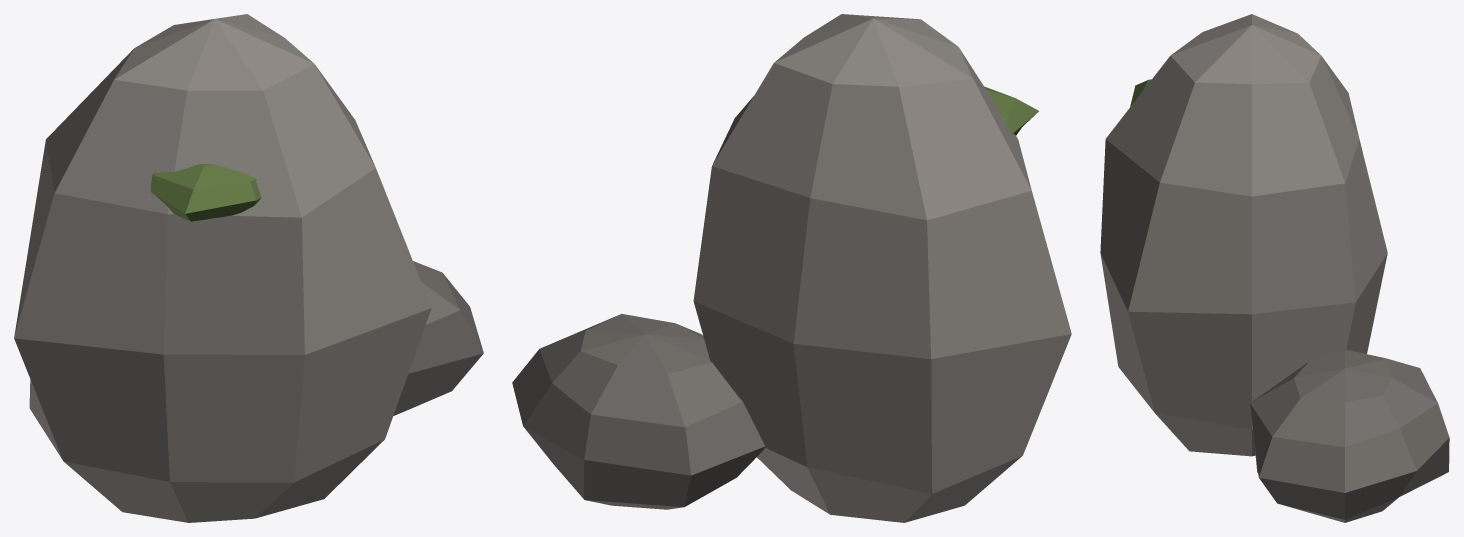
File: rock_2.glb
3 views of the same model, side by side, from view 1: azimuth 30°, elevation 25°; view 2: azimuth 150°, elevation 25°; view 3: azimuth 270°, elevation 25° (orthographic). The views are drawn at different scales.
Visible parts, largest first — view 1: rock_2; view 2: rock_2; view 3: rock_2.
Boxes of the visible parts, <box> form: rock_2: <box>14,14,483,522</box>; rock_2: <box>512,14,1071,522</box>; rock_2: <box>1100,14,1449,522</box>.
Size of the model in its own units: 1.6 by 1.41 by 1.12.
